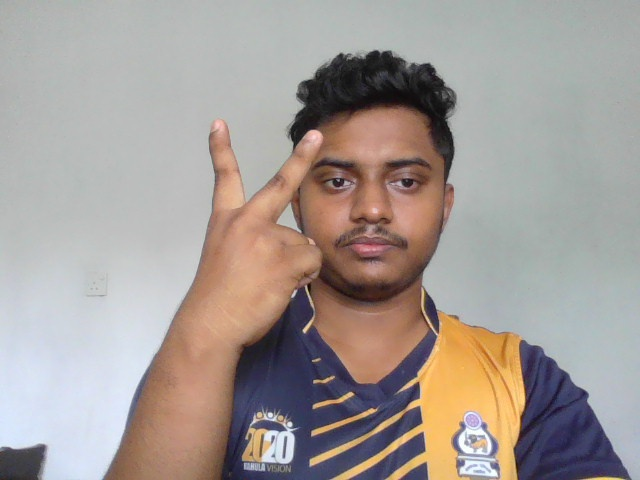See You: (182, 116, 328, 351)
